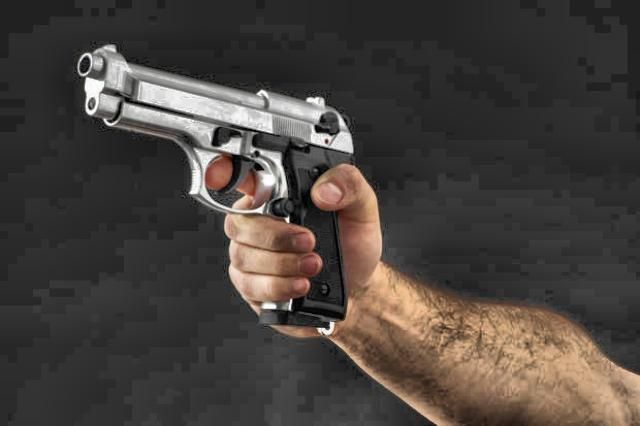pistol: (68, 35, 346, 329)
